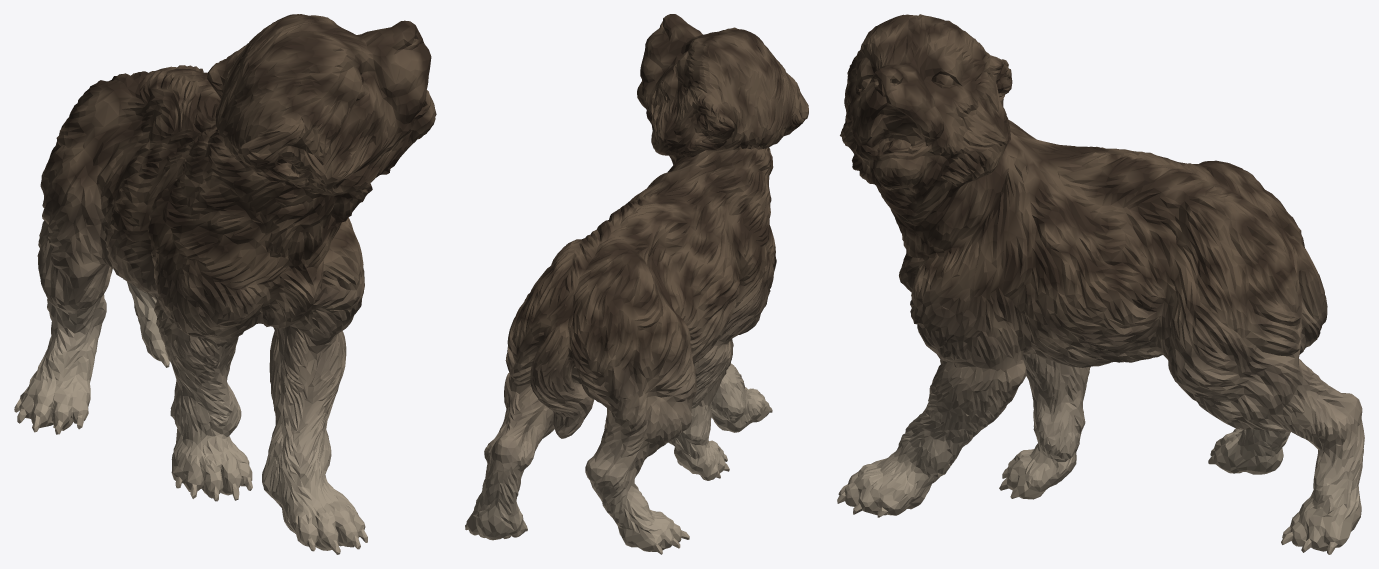
The model's file is animal_wolfpup_v1.glb.
The picture shows the model from 3 angles, left to right: view 1: azimuth 30°, elevation 25°; view 2: azimuth 150°, elevation 25°; view 3: azimuth 270°, elevation 25°; orthographic projection. The views are drawn at different scales.
Visible parts, largest first — view 1: wolf-pup; view 2: wolf-pup; view 3: wolf-pup.
Part boxes in pixels (x1,y1,x2,y2): wolf-pup: (14, 14, 436, 554); wolf-pup: (465, 14, 808, 554); wolf-pup: (837, 14, 1364, 554).
Bounding box in the file's own units: 28.77 × 60.16 × 59.16.
